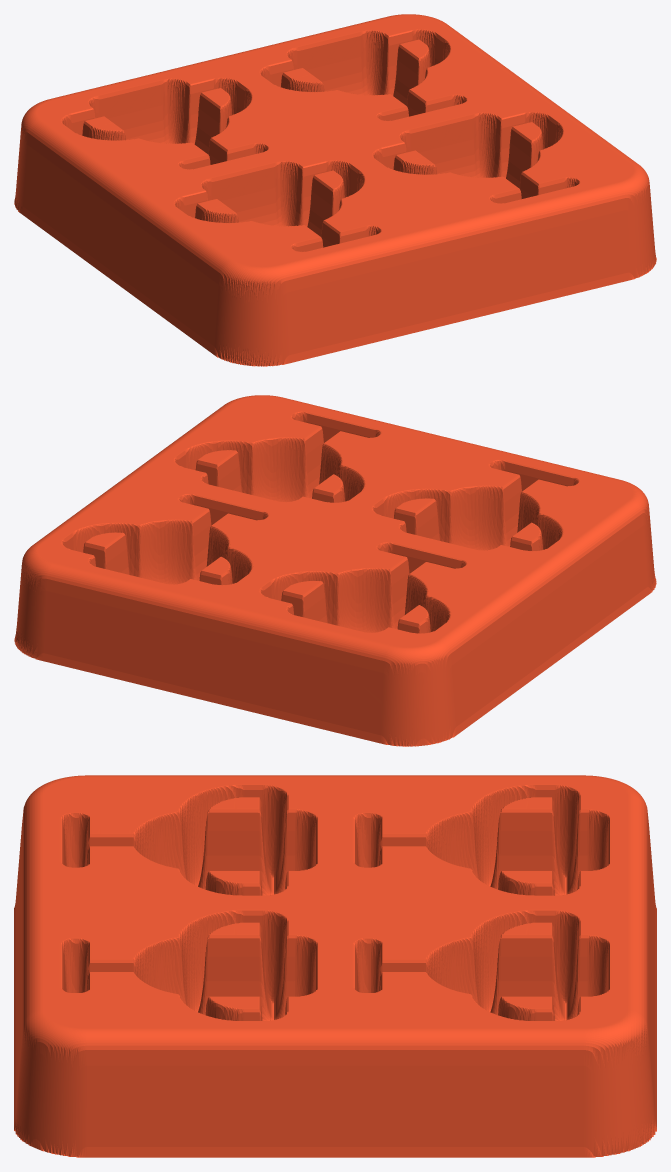
File: mold.glb
3 views of the same model, one above another, from view 1: azimuth 30°, elevation 25°; view 2: azimuth 150°, elevation 25°; view 3: azimuth 270°, elevation 25° (orthographic). The views are drawn at different scales.
Visible parts, largest first — view 1: geometry_0; view 2: geometry_0; view 3: geometry_0.
Boxes of the visible parts, x1,y1,x2,y2 form: geometry_0: (14, 14, 656, 366); geometry_0: (14, 395, 656, 746); geometry_0: (14, 775, 656, 1157).
Bounding box in the file's own units: 0.0808 × 0.0159 × 0.0796.
